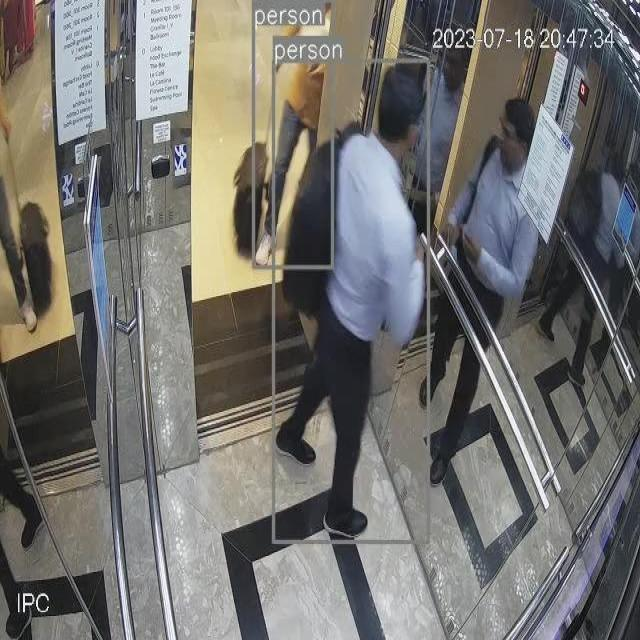person: (281, 57, 430, 539), (429, 61, 537, 492), (250, 4, 330, 255)
